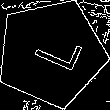L_NW: (21, 29, 81, 78)
